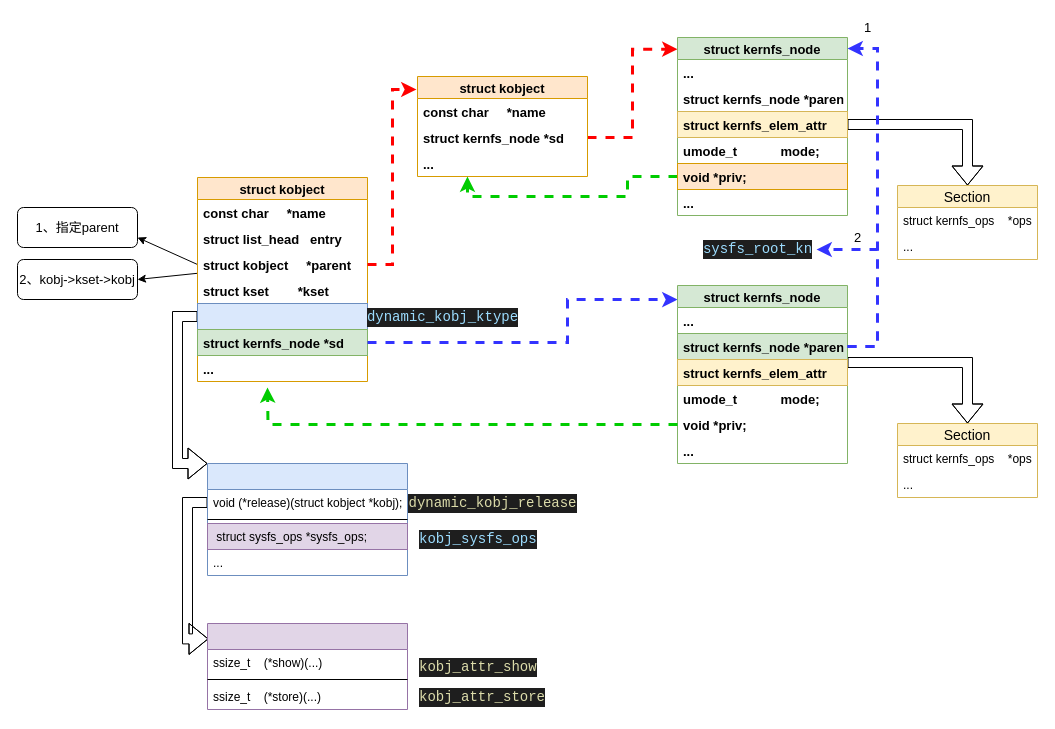
The diagram is 1055 pixels wide and 729 high, and some of its shapes have lost their labels. Here are the shapes that lost their labels. From the top down, the box of each, then its label:
(196, 302, 368, 330): struct kobj_type *ktype;
(206, 462, 408, 576): struct kobj_type
(206, 622, 408, 710): struct sysfs_ops
